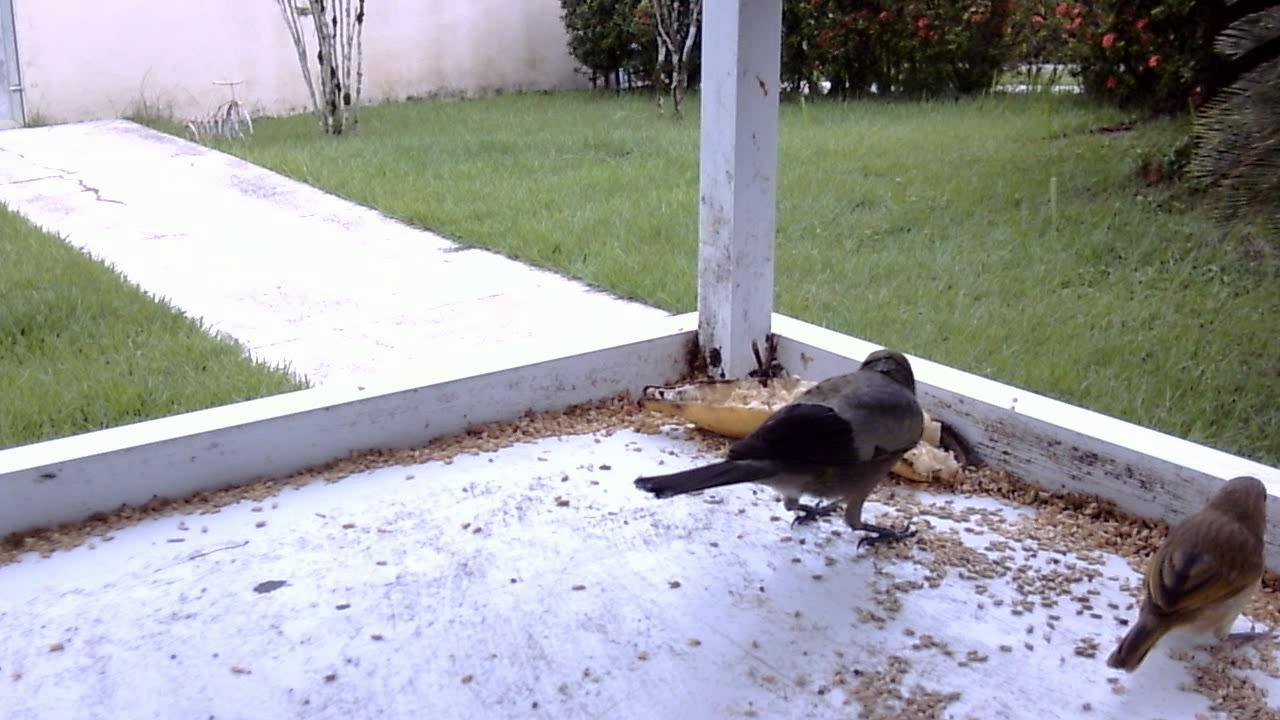canario_do_amazonas: (1103, 469, 1272, 674)
sanhaco_do_coqueiro: (632, 340, 961, 554)
